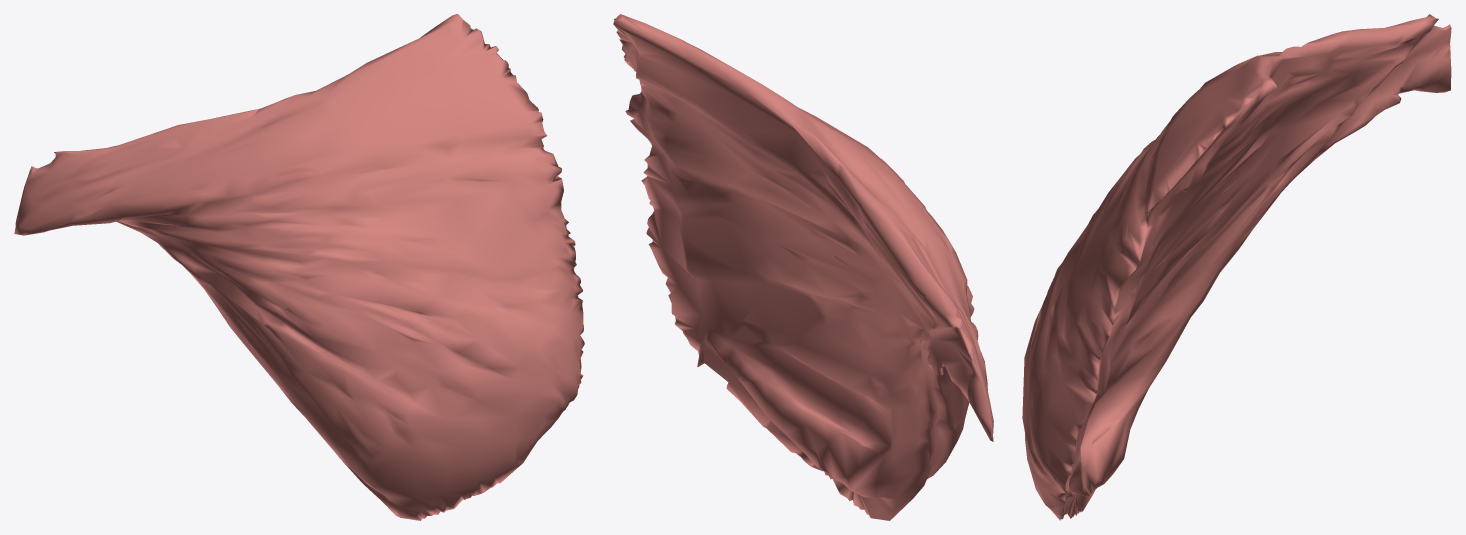
The picture shows the model from 3 angles, left to right: view 1: azimuth 30°, elevation 25°; view 2: azimuth 150°, elevation 25°; view 3: azimuth 270°, elevation 25°; orthographic projection. The views are drawn at different scales.
Visible parts, largest first — view 1: ZA_33f3d0951bf3f448; view 2: ZA_33f3d0951bf3f448; view 3: ZA_33f3d0951bf3f448.
Part boxes in pixels (x1,y1,x2,y2): ZA_33f3d0951bf3f448: (14, 14, 584, 520); ZA_33f3d0951bf3f448: (613, 14, 993, 520); ZA_33f3d0951bf3f448: (1022, 14, 1451, 520).
Size of the model in its own units: 0.1901 by 0.1822 by 0.1423.
